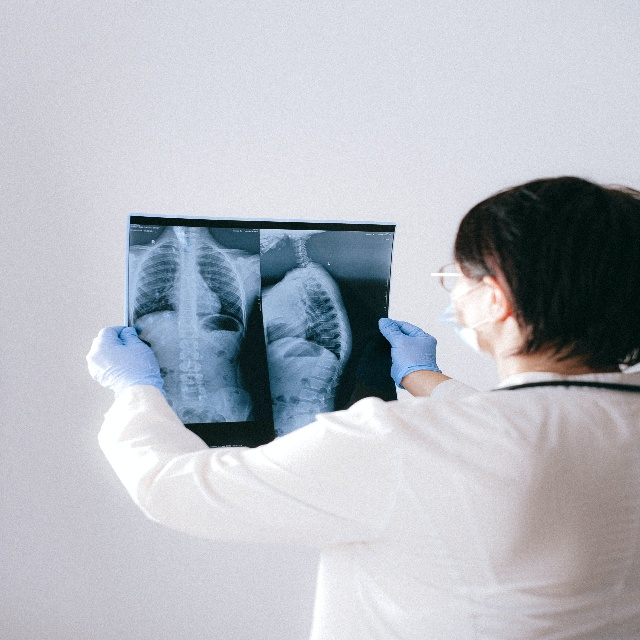Gafas: (432, 258, 465, 294)
Guantes: (87, 323, 165, 395), (378, 316, 440, 391)
Mascara: (440, 281, 492, 359)
